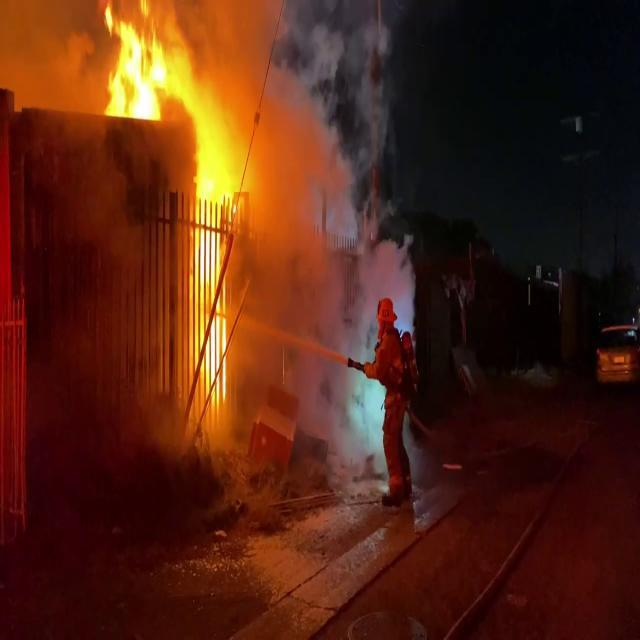Fire: (188, 99, 248, 410), (94, 0, 194, 132)
Smoke: (210, 1, 406, 450)
